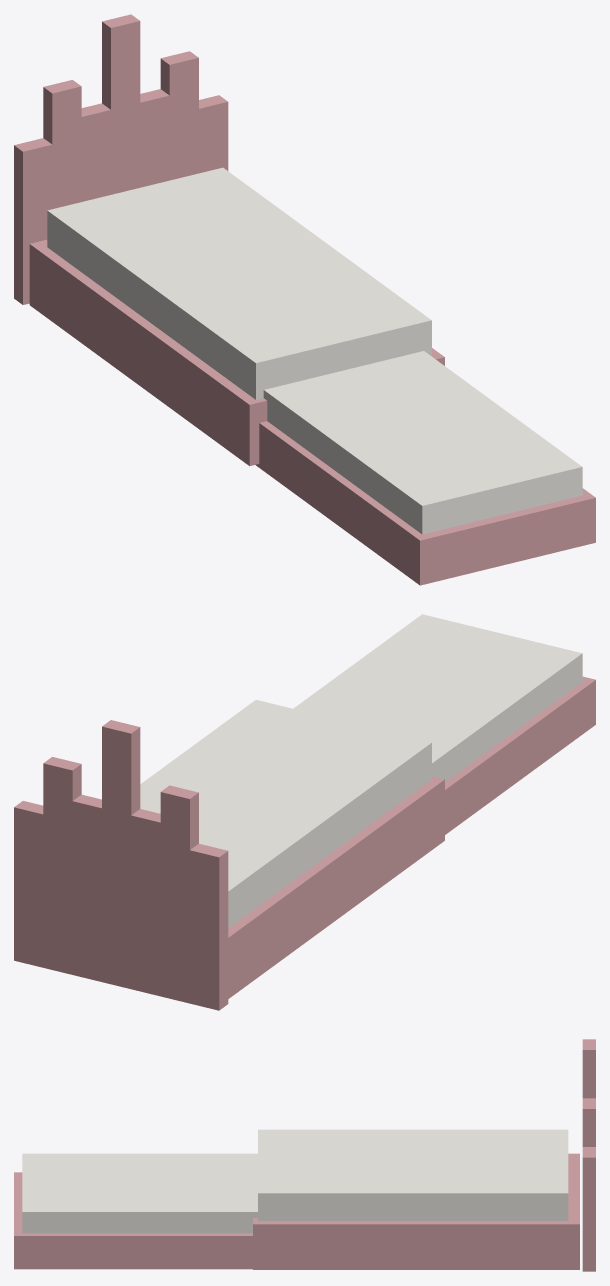
The model's file is cama-paulette.glb.
The picture shows the model from 3 angles, top to bottom: view 1: azimuth 30°, elevation 25°; view 2: azimuth 150°, elevation 25°; view 3: azimuth 270°, elevation 25°; orthographic projection. The views are drawn at different scales.
Visible parts, largest first — view 1: cama-paulette; view 2: cama-paulette; view 3: cama-paulette.
Boxes of the visible parts, x1,y1,x2,y2 form: cama-paulette: (14, 14, 595, 585); cama-paulette: (14, 614, 595, 1010); cama-paulette: (14, 1039, 595, 1271).
Size of the model in its own units: 1.05 by 1.27 by 3.47.
